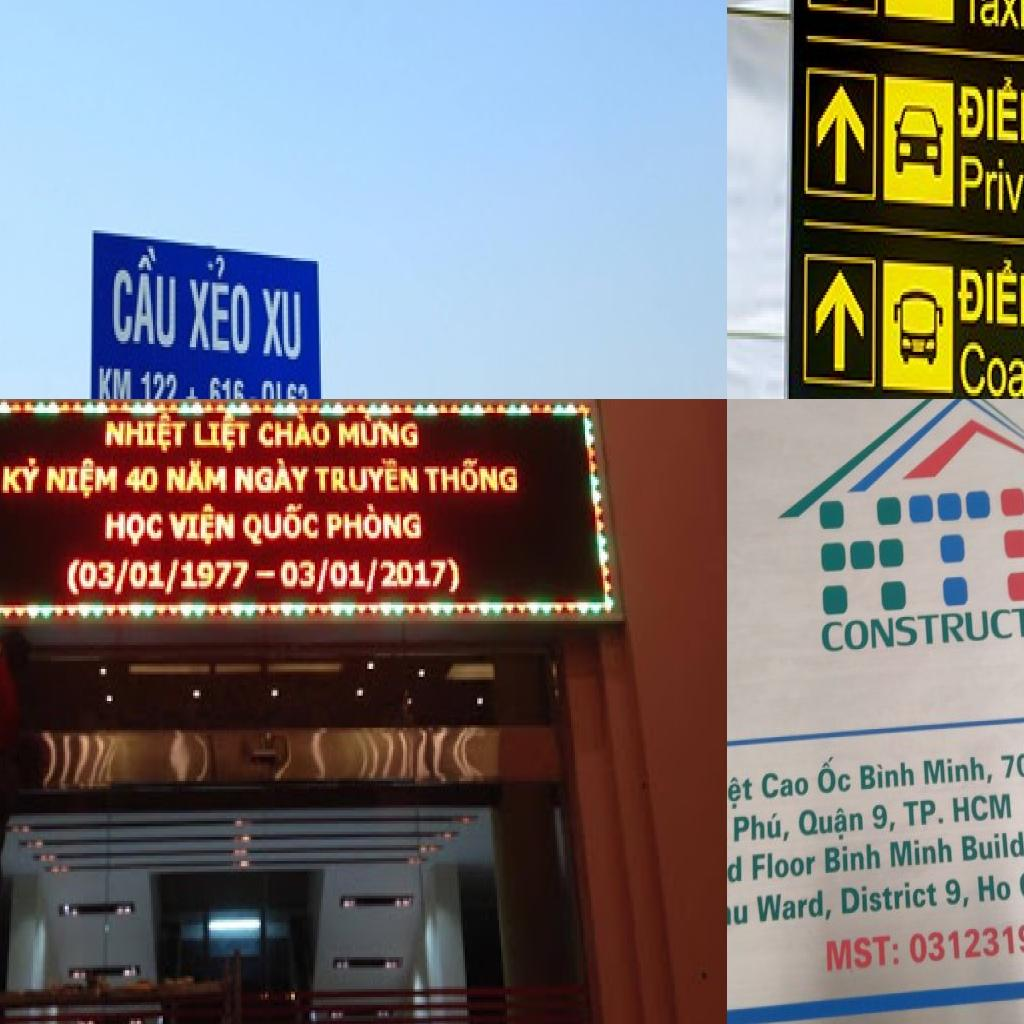text: (821, 601, 1024, 655), (112, 240, 180, 354), (188, 255, 253, 359), (911, 916, 1024, 966), (954, 70, 1024, 146), (954, 152, 1024, 225), (956, 257, 1024, 329), (311, 456, 421, 496), (841, 877, 940, 921), (101, 410, 189, 458), (903, 793, 1014, 830), (325, 504, 425, 544), (958, 339, 1024, 399), (241, 501, 323, 549), (423, 456, 521, 496), (826, 930, 902, 977), (43, 456, 121, 501), (335, 410, 421, 450), (262, 286, 304, 366), (167, 501, 237, 549), (757, 886, 834, 929), (233, 456, 311, 496), (961, 822, 1024, 871), (257, 410, 333, 450), (800, 802, 868, 845), (923, 750, 994, 789), (191, 413, 253, 456), (179, 557, 251, 594), (750, 846, 818, 884), (165, 458, 229, 496), (956, 0, 1024, 35), (103, 512, 167, 549), (861, 756, 917, 794), (733, 812, 792, 848), (891, 836, 955, 869), (69, 557, 117, 600), (824, 841, 882, 876), (759, 769, 811, 804), (1, 456, 43, 498), (816, 756, 854, 797), (975, 870, 1013, 908), (97, 362, 134, 399), (329, 557, 367, 592), (138, 369, 181, 399), (125, 464, 161, 498), (129, 560, 167, 592), (281, 560, 317, 592), (866, 802, 900, 834), (727, 773, 754, 811), (942, 876, 972, 910), (727, 895, 750, 933), (113, 560, 133, 600), (1001, 746, 1024, 780), (163, 557, 181, 600), (317, 560, 333, 597), (365, 560, 381, 594), (185, 384, 202, 399)
